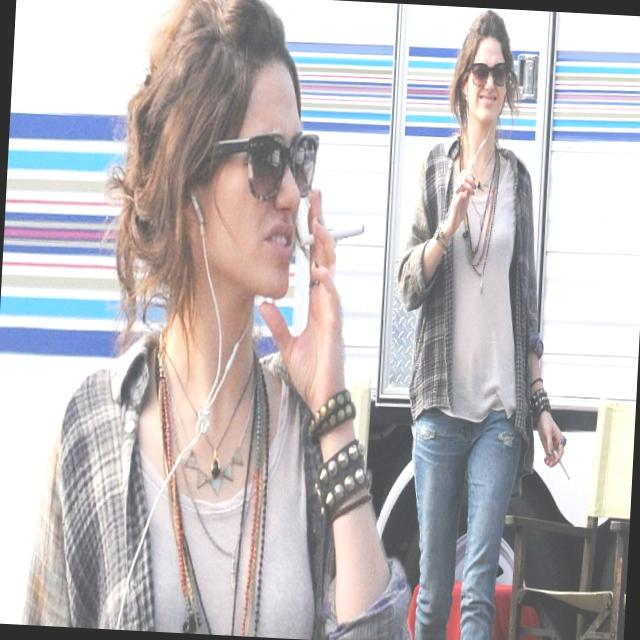smoke: (334, 220, 364, 243), (559, 458, 574, 484)
